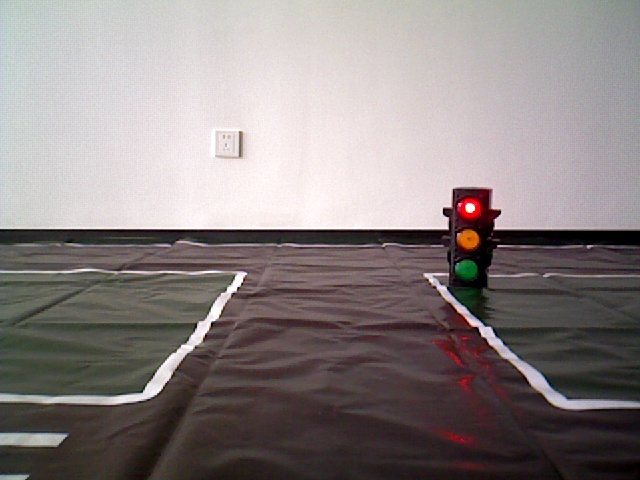red: (447, 194, 489, 291)
